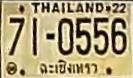0: (57, 17, 73, 54)
1: (32, 17, 36, 55), (32, 16, 36, 54)
5: (93, 16, 108, 54), (75, 17, 90, 54)
6: (111, 17, 126, 54)
7: (8, 17, 24, 55)
CCO: (38, 59, 99, 76)
